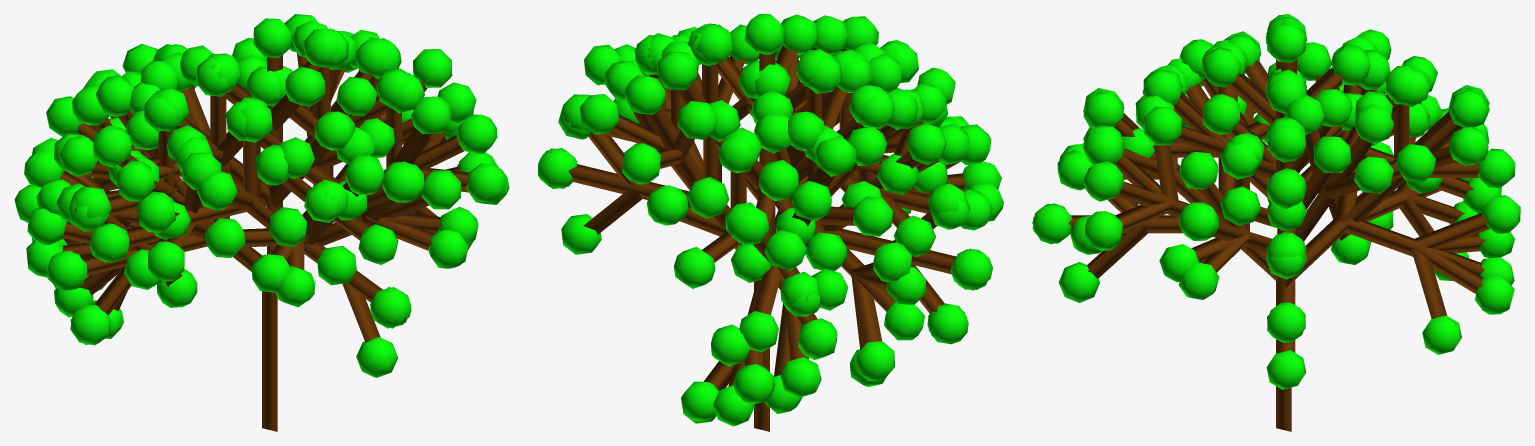
The model's file is cherry.obj.
3 renders of one model, left to right at view 1: azimuth 30°, elevation 25°; view 2: azimuth 150°, elevation 25°; view 3: azimuth 270°, elevation 25°, orthographic. The views are drawn at different scales.
Parts seen in each view (by area): view 1: Mesh_1_Mesh_1.002; view 2: Mesh_1_Mesh_1.002; view 3: Mesh_1_Mesh_1.002.
Boxes of the visible parts, x1,y1,x2,y2 form: Mesh_1_Mesh_1.002: (14, 14, 509, 431); Mesh_1_Mesh_1.002: (538, 14, 1003, 431); Mesh_1_Mesh_1.002: (1032, 14, 1520, 431).
Size of the model in its own units: 0.2445 by 0.2133 by 0.2346.
